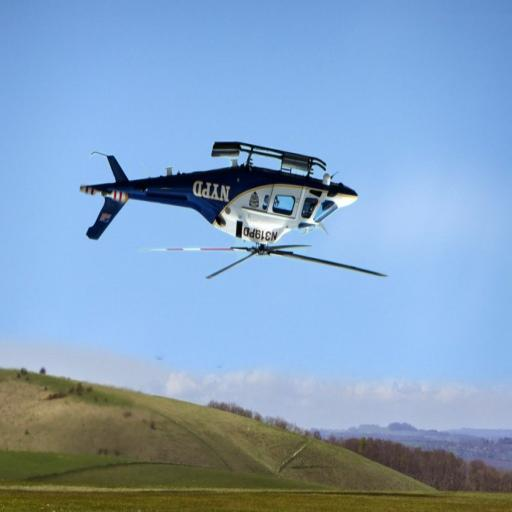helicopter: (77, 141, 389, 278)
